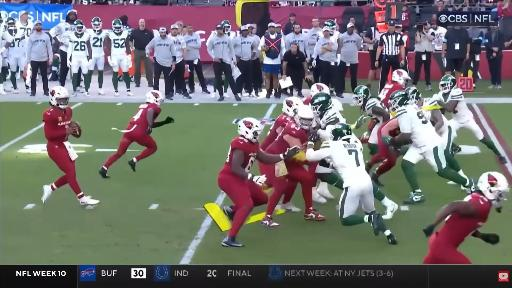Helmet: (477, 172, 509, 205), (238, 118, 262, 142), (310, 93, 332, 118), (388, 90, 409, 113), (295, 106, 314, 130), (50, 86, 69, 109), (283, 97, 303, 117), (330, 123, 352, 140), (353, 86, 370, 106), (392, 70, 410, 87), (439, 75, 456, 93), (406, 87, 422, 104), (146, 90, 164, 105), (311, 83, 329, 96), (91, 17, 102, 31), (74, 20, 85, 34), (112, 19, 122, 33), (221, 20, 231, 31), (6, 17, 15, 29)
Jersey: (436, 193, 492, 248), (321, 138, 370, 187), (395, 106, 441, 151), (266, 120, 308, 154), (221, 136, 259, 173), (260, 114, 292, 150), (443, 88, 473, 123), (43, 107, 72, 143), (126, 104, 161, 130), (318, 108, 345, 141), (379, 83, 403, 107), (87, 29, 107, 57), (365, 98, 387, 123), (69, 32, 90, 58), (7, 30, 26, 57), (108, 31, 128, 56), (422, 99, 438, 124), (379, 118, 399, 137), (16, 20, 34, 38), (0, 25, 12, 46), (303, 96, 312, 105)
Player: (307, 123, 397, 244), (218, 118, 300, 247), (383, 91, 474, 204), (423, 172, 509, 263), (42, 86, 99, 205), (99, 91, 174, 178), (433, 75, 506, 163), (406, 87, 465, 176), (262, 151, 325, 226), (353, 86, 396, 186), (353, 86, 390, 155), (260, 97, 303, 151), (104, 19, 133, 96), (261, 97, 303, 150), (66, 20, 91, 96), (310, 91, 345, 140), (310, 93, 345, 141), (7, 18, 27, 93), (88, 17, 107, 95), (367, 136, 396, 185), (314, 162, 342, 203), (379, 70, 410, 106), (0, 20, 12, 94), (16, 11, 34, 54), (16, 11, 34, 38), (221, 20, 236, 40)
